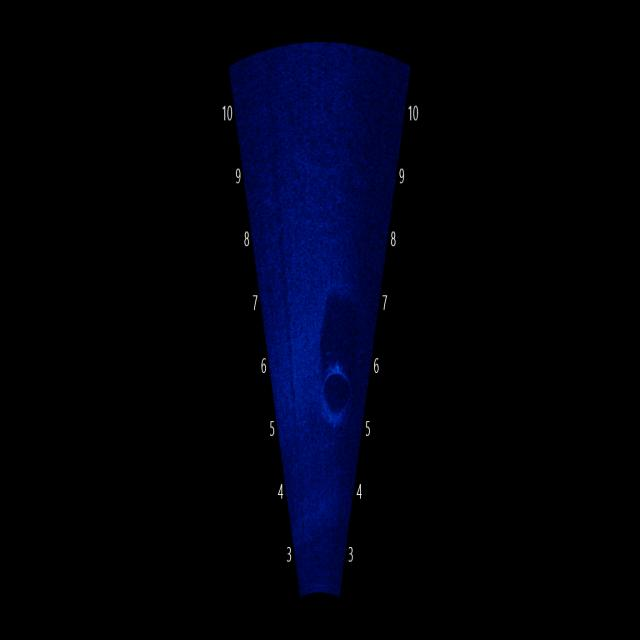circle: (314, 337, 359, 443)
